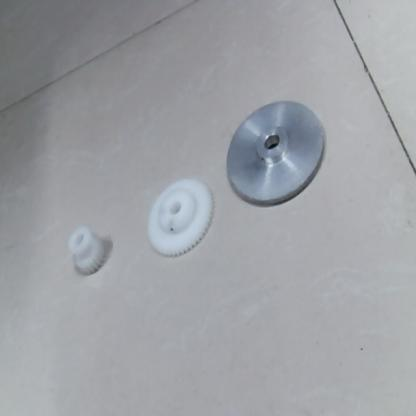FOD: (225, 96, 328, 212), (144, 176, 212, 257), (70, 225, 106, 280)
